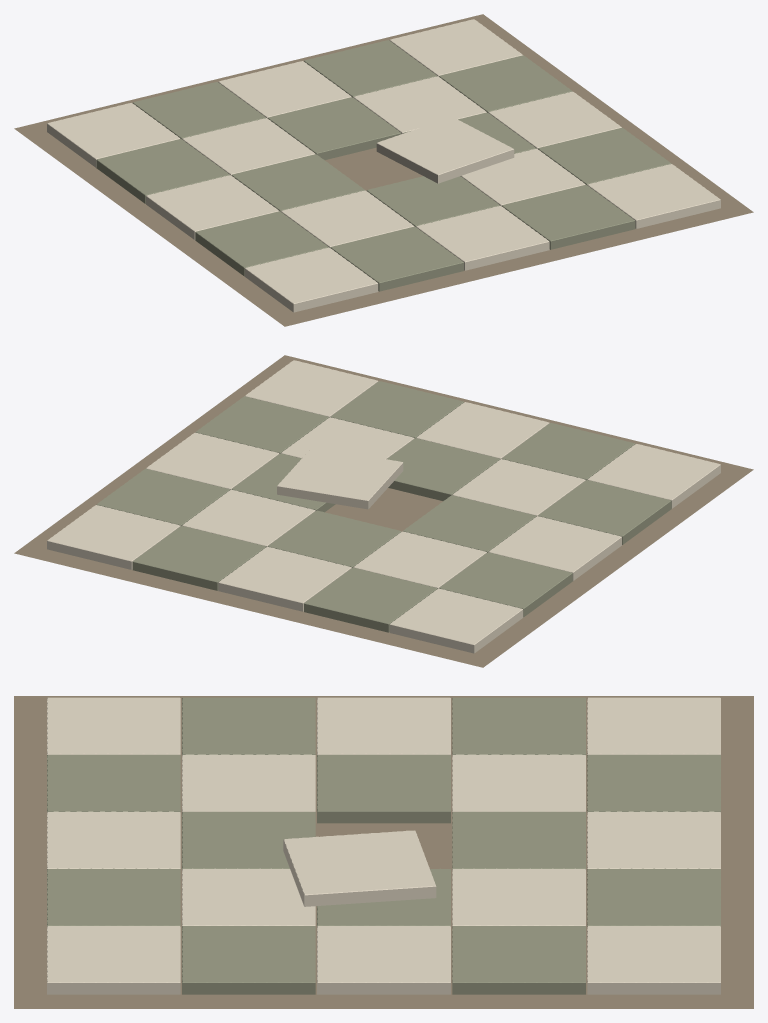
File: terilgan.glb
The picture shows the model from 3 angles, top to bottom: view 1: azimuth 30°, elevation 25°; view 2: azimuth 150°, elevation 25°; view 3: azimuth 270°, elevation 25°; orthographic projection. The views are drawn at different scales.
Parts seen in each view (by area): view 1: qum, t.012, t, t.015, t.005, t.010, t.020, t.013, t.001, t.002, t.003, t.004 (+14 smaller); view 2: qum, t.004, t.012, t.019, t.009, t.014, t.024, t.002, t.003, t.001, t, t.006 (+14 smaller); view 3: qum, t.012, t.007, t.020, t.021, t.022, t.023, t.024, t, t.001, t.002, t.003 (+14 smaller).
Boxes of the visible parts, x1,y1,x2,y2 form: qum: (14, 14, 753, 326); t.012: (376, 117, 514, 183); t: (244, 247, 378, 312); t.015: (501, 185, 635, 249); t.005: (330, 226, 463, 291); t.010: (416, 205, 549, 270); t.020: (587, 164, 720, 228); t.013: (267, 97, 401, 159); t.001: (195, 211, 328, 276); t.002: (146, 175, 279, 239); t.003: (96, 139, 229, 203); t.004: (47, 103, 180, 167); qum: (14, 355, 753, 667); t.004: (389, 588, 523, 653); t.012: (277, 447, 403, 509); t.019: (132, 526, 266, 590); t.009: (304, 567, 437, 632); t.014: (218, 546, 351, 611); t.024: (47, 505, 180, 569); t.002: (488, 516, 621, 580); t.003: (439, 552, 572, 617); t.001: (538, 480, 671, 544); t: (587, 444, 720, 508); t.006: (452, 459, 585, 516); qum: (14, 696, 753, 1008); t.012: (283, 830, 436, 906); t.007: (317, 754, 450, 823); t.020: (47, 926, 180, 994); t.021: (182, 926, 315, 994); t.022: (317, 926, 450, 994); t.023: (452, 926, 585, 994); t.024: (587, 926, 720, 994); t: (47, 697, 180, 754); t.001: (182, 697, 315, 754); t.002: (317, 697, 450, 754); t.003: (452, 697, 585, 754).
Bounding box in the file's own units: 1.66 × 0.062 × 1.66.
